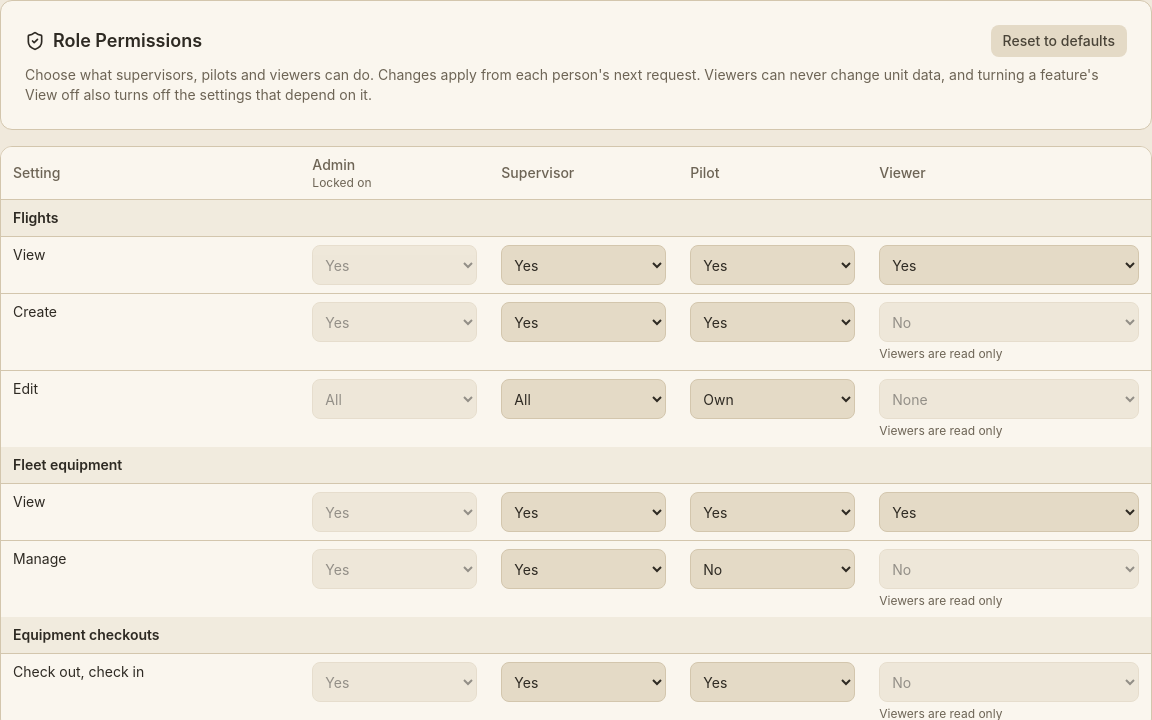
RolePermissionsGrid wide layout › saves only changed cells and refreshes from the response
The image size is (1152, 720).
Select "All" in the dropdown named "Pilot, Flights, Edit" at (773, 399), box left=690, top=379, right=855, bottom=419
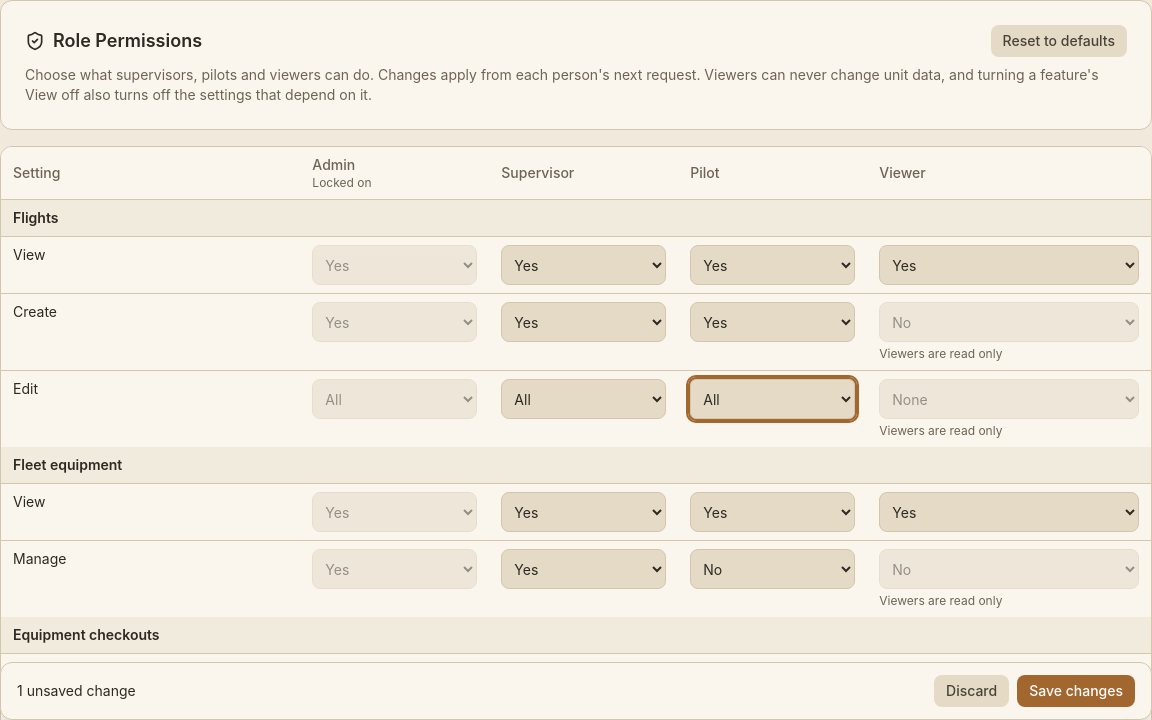
Click the button "Save changes" at (1076, 691), box left=1017, top=675, right=1135, bottom=707
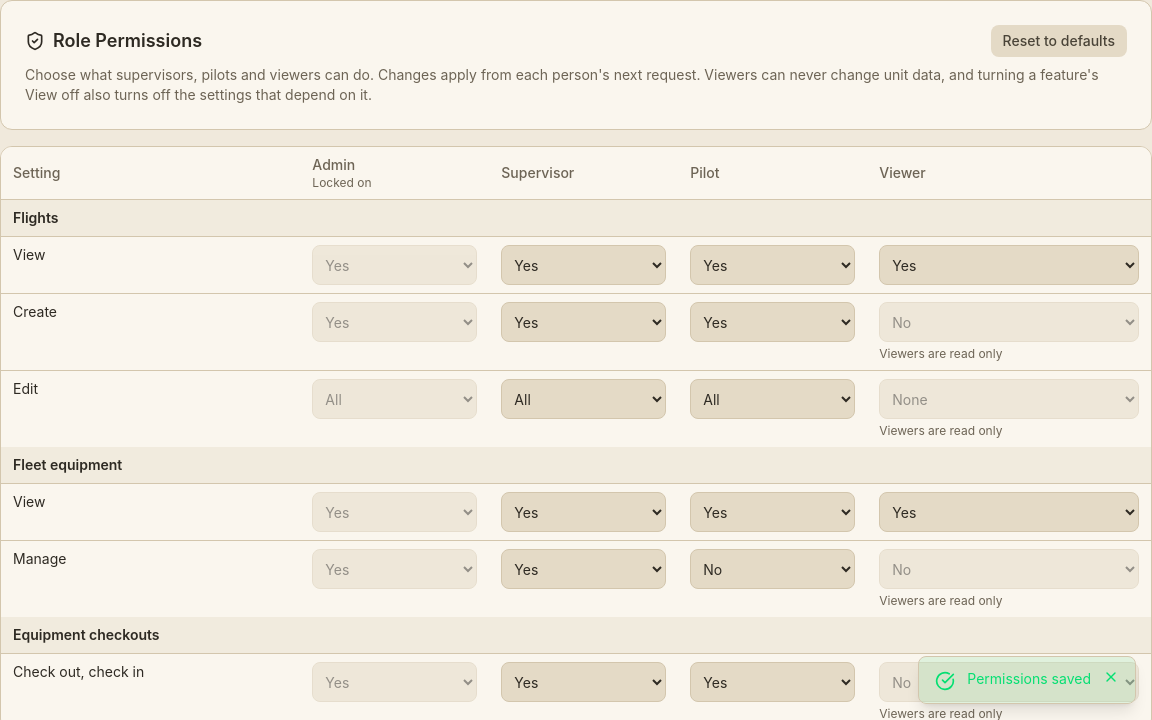
Now the button "Save changes" is gone
